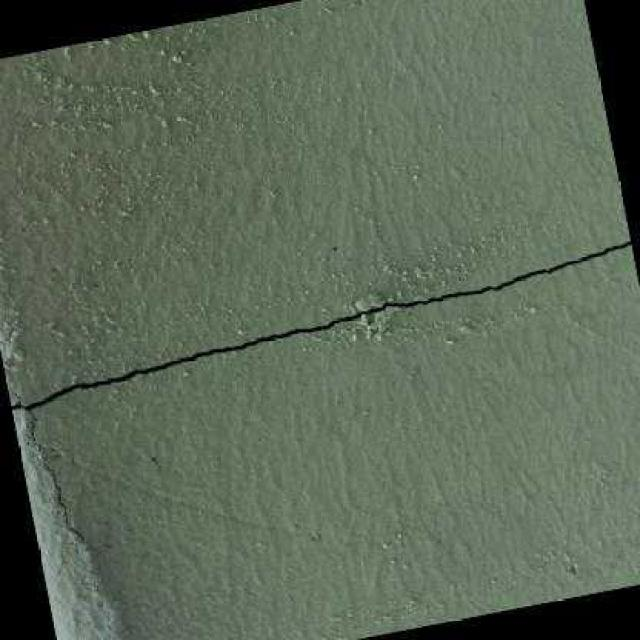D00: (10, 237, 631, 415)
